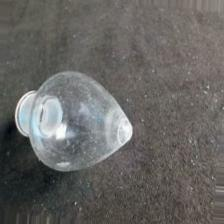Pear shaped flask: (12, 68, 135, 177)
